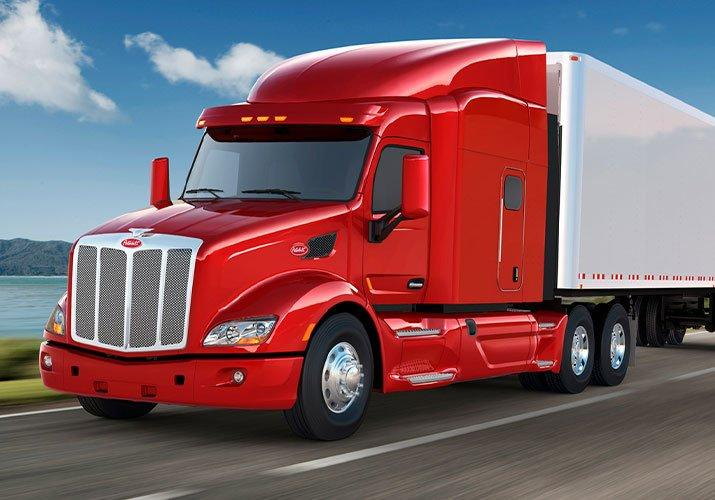truck: (38, 35, 715, 441)
